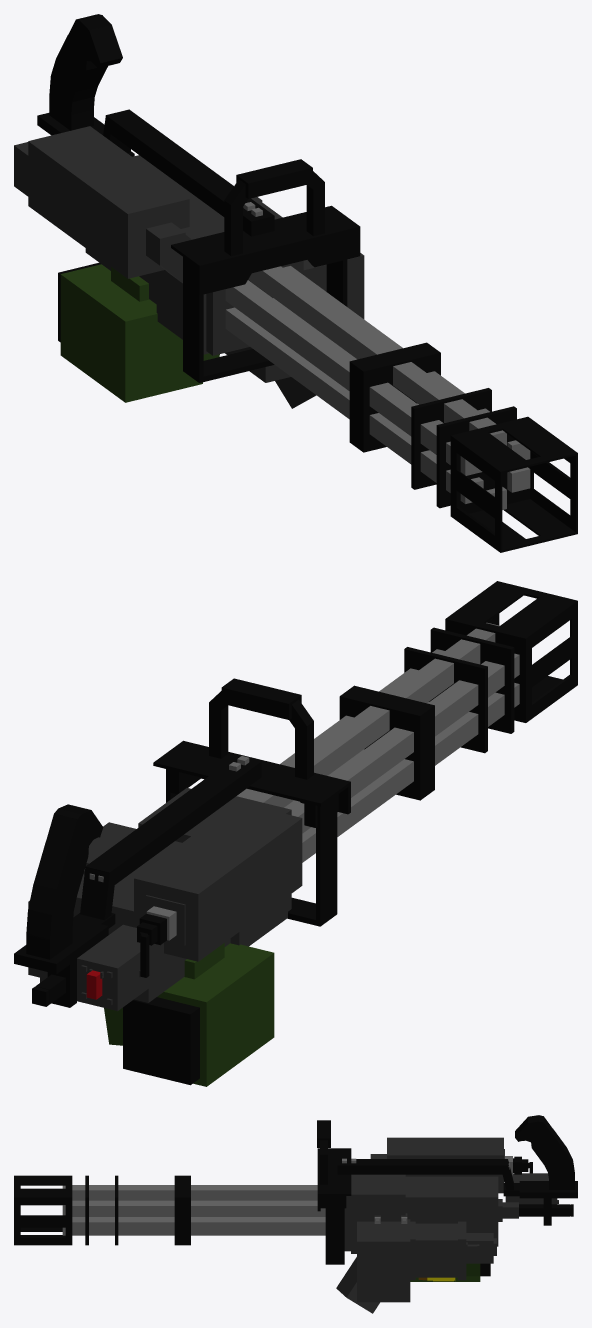
The model's file is minigun.glb.
The picture shows the model from 3 angles, top to bottom: view 1: azimuth 30°, elevation 25°; view 2: azimuth 150°, elevation 25°; view 3: azimuth 270°, elevation 25°; orthographic projection. The views are drawn at different scales.
Visible parts, largest first — view 1: Object_9, Object_7, Object_8, Object_3; view 2: Object_9, Object_7, Object_8, Object_3; view 3: Object_7, Object_9, Object_8, Object_3.
Boxes of the visible parts, x1,y1,x2,y2 form: Object_9: (37,14,577,552); Object_7: (14,126,364,408); Object_8: (225,202,530,509); Object_3: (60,264,219,402); Object_9: (14,581,577,1085); Object_7: (28,788,302,1010); Object_8: (89,622,519,940); Object_3: (104,943,274,1086); Object_7: (336,1137,558,1313); Object_9: (14,1115,577,1276); Object_8: (62,1156,512,1235); Object_3: (410,1263,480,1281).
Bounding box in the file's own units: 0.5779 × 0.767 × 2.28.
